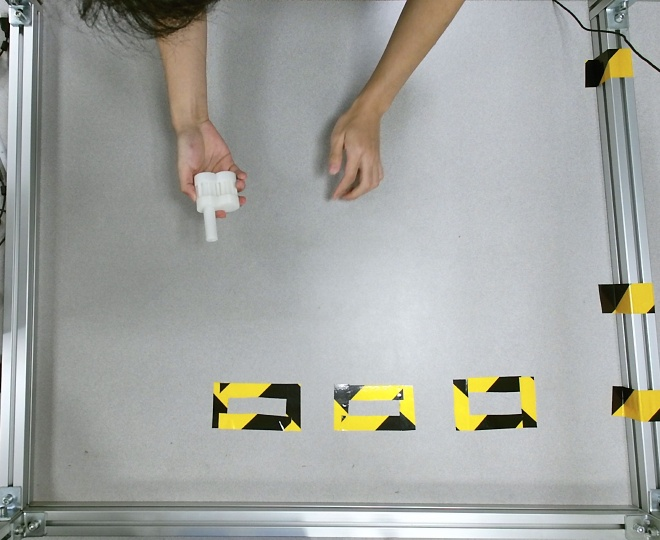stage_4: (194, 171, 241, 241)
